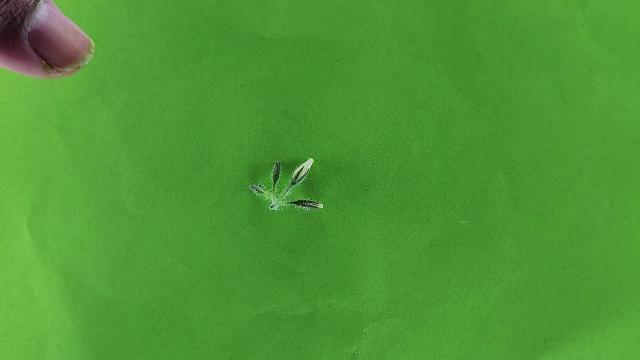Flower Bud: (291, 158, 314, 186), (288, 199, 323, 209), (272, 160, 281, 189), (249, 184, 265, 195)
